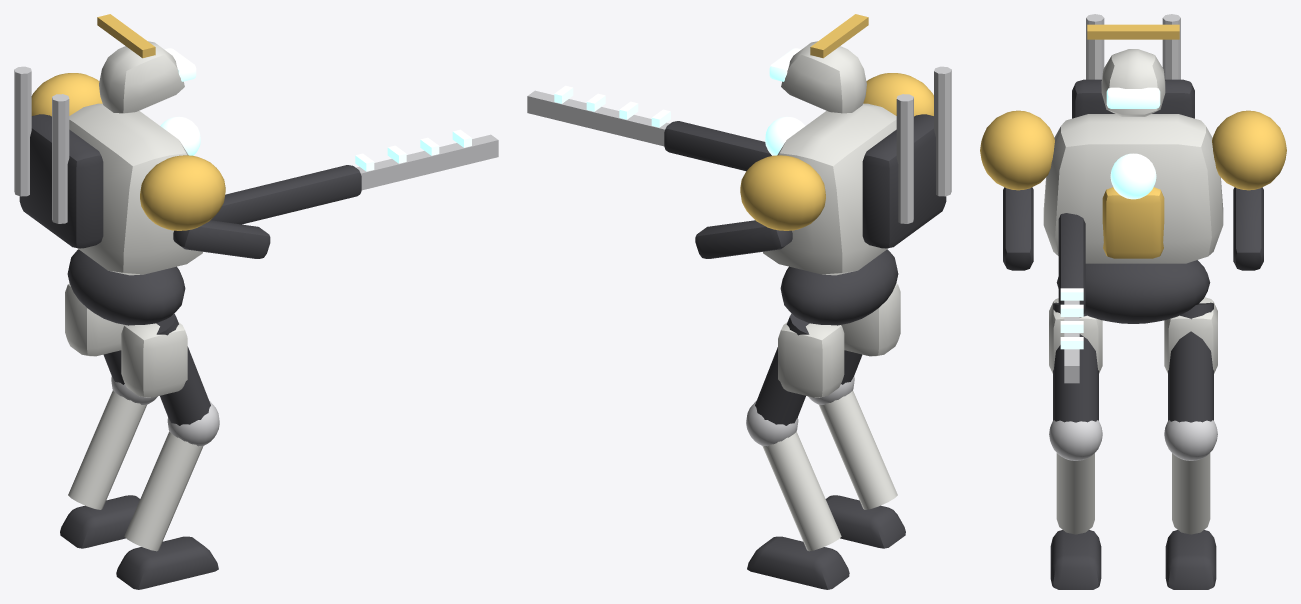
Rendered from rob_sniper.glb.
3 views of the same model, side by side, from view 1: azimuth 30°, elevation 25°; view 2: azimuth 150°, elevation 25°; view 3: azimuth 270°, elevation 25° (orthographic). The views are drawn at different scales.
Visible parts, largest first — view 1: torso_m, knee_r_m, knee_l_m, leg_r_m, leg_l_m; view 2: torso_m, knee_l_m, knee_r_m, leg_l_m, leg_r_m; view 3: torso_m, knee_l_m, knee_r_m, leg_l_m, leg_r_m.
Boxes of the visible parts, x1,y1,x2,y2 form: torso_m: [14, 14, 498, 325]; knee_r_m: [116, 401, 219, 589]; knee_l_m: [60, 376, 157, 548]; leg_r_m: [121, 313, 210, 425]; leg_l_m: [65, 283, 124, 384]; torso_m: [527, 14, 951, 325]; knee_l_m: [746, 401, 849, 589]; knee_r_m: [808, 376, 905, 548]; leg_l_m: [755, 313, 844, 425]; leg_r_m: [841, 283, 900, 384]; torso_m: [980, 14, 1286, 383]; knee_l_m: [1164, 420, 1217, 589]; knee_r_m: [1049, 420, 1102, 589]; leg_l_m: [1164, 297, 1217, 422]; leg_r_m: [1049, 298, 1102, 422].
Size of the model in its own units: 0.662 by 0.771 by 0.4.
